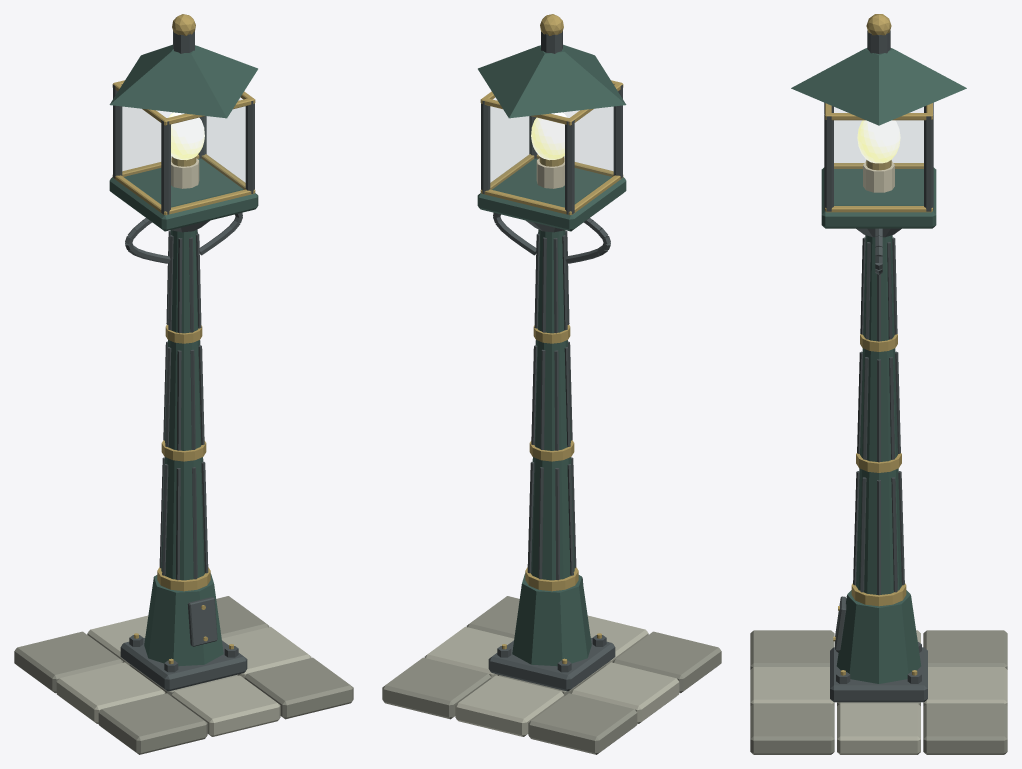
File: street-lamp.glb
3 views of the same model, side by side, from view 1: azimuth 30°, elevation 25°; view 2: azimuth 150°, elevation 25°; view 3: azimuth 270°, elevation 25° (orthographic). The views are drawn at different scales.
Visible parts, largest first — view 1: Foundation_mesh, LanternFrame_mesh, LanternRoof_mesh, BoltedBase_mesh, ShaftSection_mesh, ShaftSection.001_mesh, Glazing_mesh, ShaftSection.002_mesh, LampEmitter_mesh, ServiceHatch_mesh, ScrollBrackets_mesh, BulbSocket_mesh; view 2: Foundation_mesh, LanternFrame_mesh, BoltedBase_mesh, LanternRoof_mesh, ShaftSection_mesh, ShaftSection.001_mesh, Glazing_mesh, ShaftSection.002_mesh, LampEmitter_mesh, ScrollBrackets_mesh, BulbSocket_mesh; view 3: Foundation_mesh, BoltedBase_mesh, LanternFrame_mesh, LanternRoof_mesh, ShaftSection_mesh, ShaftSection.001_mesh, ShaftSection.002_mesh, Glazing_mesh, LampEmitter_mesh, BulbSocket_mesh.
Part boxes in pixels (x1,y1,x2,y2): Foundation_mesh: [14, 596, 353, 754]; LanternFrame_mesh: [109, 80, 258, 232]; LanternRoof_mesh: [109, 14, 257, 118]; BoltedBase_mesh: [120, 573, 247, 691]; ShaftSection_mesh: [157, 457, 210, 591]; ShaftSection.001_mesh: [161, 340, 206, 461]; Glazing_mesh: [122, 107, 245, 183]; ShaftSection.002_mesh: [165, 229, 202, 343]; LampEmitter_mesh: [168, 112, 204, 160]; ServiceHatch_mesh: [187, 597, 217, 646]; ScrollBrackets_mesh: [125, 213, 242, 263]; BulbSocket_mesh: [171, 156, 199, 188]; Foundation_mesh: [382, 596, 721, 754]; LanternFrame_mesh: [477, 80, 626, 232]; BoltedBase_mesh: [488, 573, 615, 691]; LanternRoof_mesh: [478, 14, 626, 118]; ShaftSection_mesh: [525, 457, 578, 591]; ShaftSection.001_mesh: [529, 340, 574, 461]; Glazing_mesh: [490, 107, 613, 183]; ShaftSection.002_mesh: [533, 229, 570, 343]; LampEmitter_mesh: [531, 112, 567, 160]; ScrollBrackets_mesh: [493, 213, 610, 263]; BulbSocket_mesh: [536, 156, 564, 188]; Foundation_mesh: [750, 630, 1007, 754]; BoltedBase_mesh: [830, 590, 927, 702]; LanternFrame_mesh: [821, 102, 936, 237]; LanternRoof_mesh: [791, 14, 966, 125]; ShaftSection_mesh: [851, 468, 906, 606]; ShaftSection.001_mesh: [856, 348, 901, 472]; ShaftSection.002_mesh: [860, 235, 897, 351]; Glazing_mesh: [834, 120, 923, 162]; LampEmitter_mesh: [857, 120, 900, 163]; BulbSocket_mesh: [863, 160, 894, 192].
Size of the model in its own units: 1.37 by 4.03 by 1.37.
